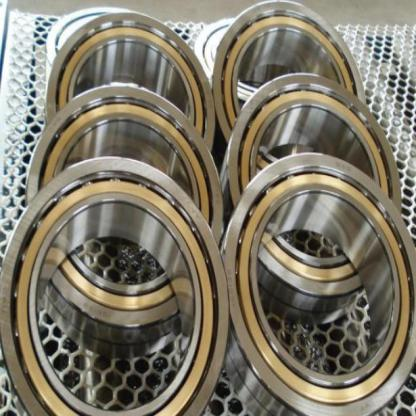FOD: (0, 157, 230, 416), (22, 77, 224, 353), (216, 146, 416, 415), (223, 71, 405, 317), (41, 10, 217, 179), (210, 0, 368, 174)
